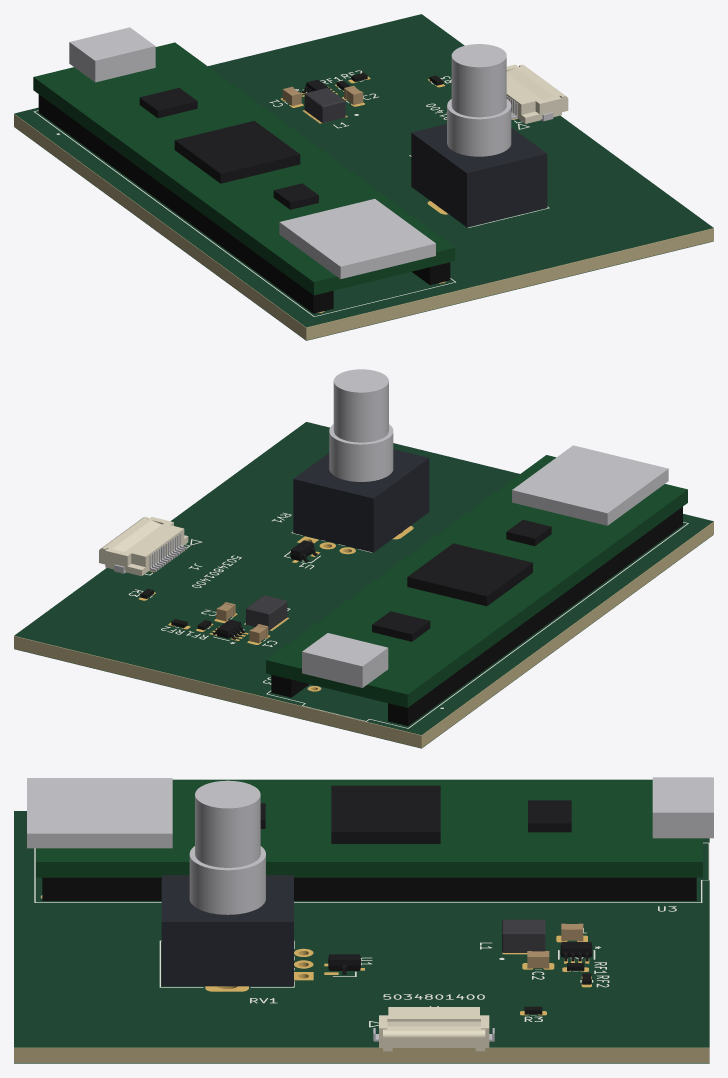
File: board-ctrl.glb
3 renders of one model, top to bottom at view 1: azimuth 30°, elevation 25°; view 2: azimuth 150°, elevation 25°; view 3: azimuth 270°, elevation 25°, orthographic. The views are drawn at different scales.
Visible parts, largest first — view 1: =>[0:1:1:10], Teensy_pcb, Teensy_usb_sd, RV1_body, PCB, Teensy_chips, RV1_shaft, Teensy_headers, body, =>[0:1:1:9], L1, lock (+1 smaller); view 2: =>[0:1:1:10], Teensy_pcb, Teensy_usb_sd, RV1_body, PCB, Teensy_chips, RV1_shaft, Teensy_headers, body, =>[0:1:1:9], L1, lock (+3 smaller); view 3: =>[0:1:1:10], Teensy_pcb, Teensy_usb_sd, Teensy_headers, RV1_body, PCB, RV1_shaft, Teensy_chips, lock, =>[0:1:1:9], body, L1 (+4 smaller).
Part boxes in pixels (box(x1,y1,x2,y2)): =>[0:1:1:10]: box(14, 14, 713, 327); Teensy_pcb: box(33, 42, 455, 295); Teensy_usb_sd: box(69, 27, 435, 279); RV1_body: box(411, 124, 547, 227); PCB: box(14, 84, 713, 340); Teensy_chips: box(139, 88, 318, 209); RV1_shaft: box(447, 44, 511, 156); Teensy_headers: box(38, 94, 450, 313); body: box(506, 64, 561, 123); =>[0:1:1:9]: box(33, 70, 549, 316); L1: box(304, 88, 345, 122); lock: box(506, 64, 568, 112); =>[0:1:1:10]: box(14, 422, 713, 734); Teensy_pcb: box(266, 455, 687, 707); Teensy_usb_sd: box(302, 445, 668, 687); RV1_body: box(293, 449, 429, 552); PCB: box(14, 521, 713, 747); Teensy_chips: box(372, 520, 551, 641); RV1_shaft: box(329, 369, 393, 481); Teensy_headers: box(271, 507, 682, 725); body: box(105, 517, 188, 576); =>[0:1:1:9]: box(128, 512, 688, 728); L1: box(246, 595, 287, 630); lock: box(99, 517, 161, 564); =>[0:1:1:10]: box(14, 811, 709, 1047); Teensy_pcb: box(36, 779, 702, 877); Teensy_usb_sd: box(27, 777, 713, 848); Teensy_headers: box(42, 877, 696, 900); RV1_body: box(161, 875, 293, 986); PCB: box(14, 895, 709, 1062); RV1_shaft: box(189, 780, 265, 914); Teensy_chips: box(260, 785, 571, 843); lock: box(383, 1021, 485, 1051); =>[0:1:1:9]: box(34, 842, 709, 1027); body: box(379, 1007, 489, 1047); L1: box(502, 919, 545, 952).
Bounding box in the file's own units: 0.0524 × 0.0187 × 0.064.
